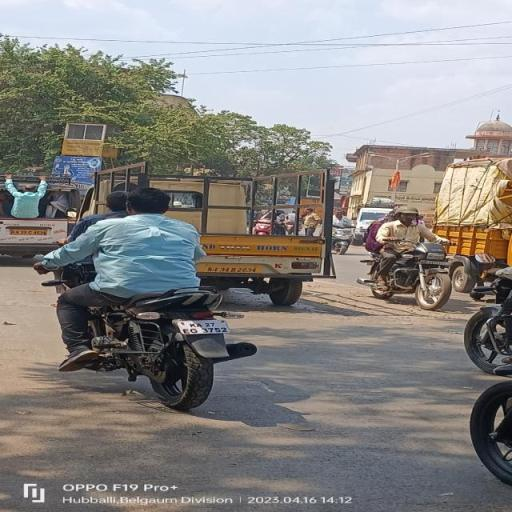bike: (28, 189, 256, 409)
numberplate: (175, 316, 231, 338)
withouthelmet: (126, 189, 174, 213), (106, 193, 125, 213)
